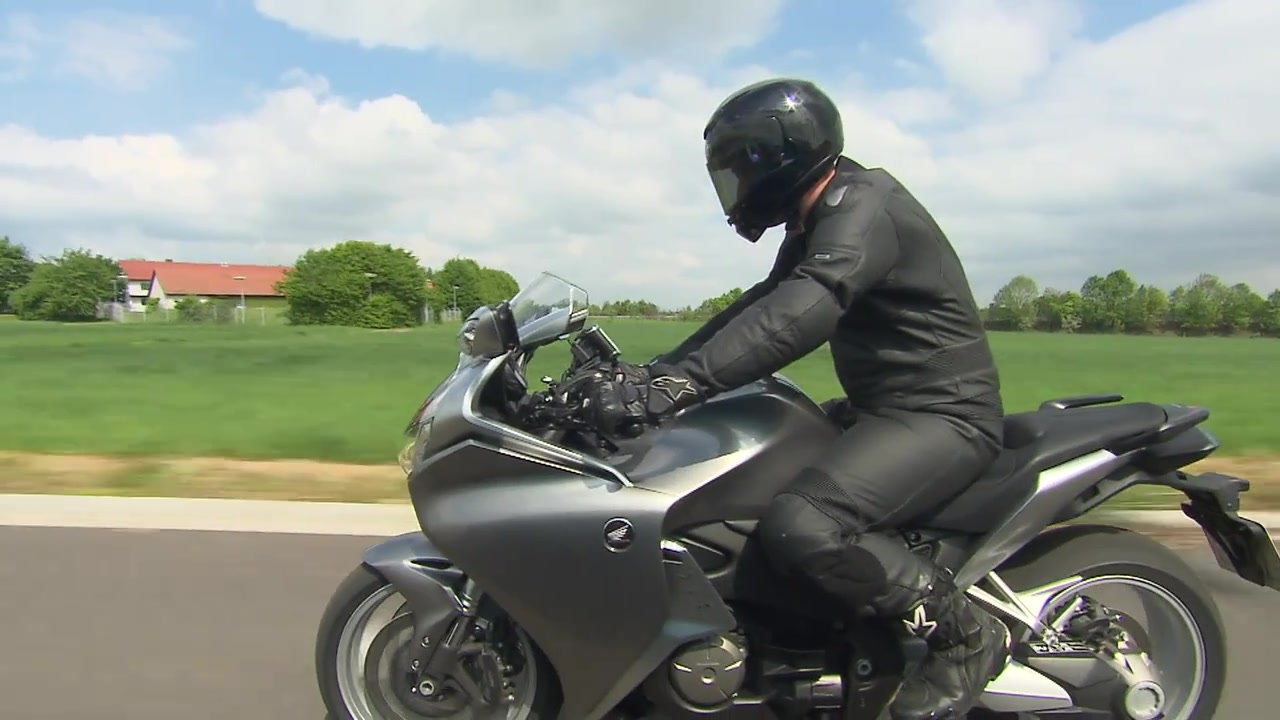motorbike: (311, 272, 1280, 719)
